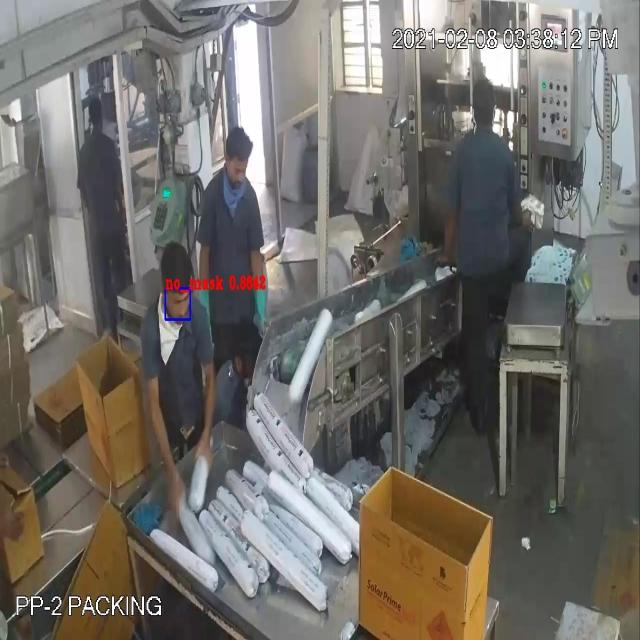gloves: (239, 238, 271, 349)
no-gloves: (140, 349, 190, 527), (192, 332, 225, 482)
